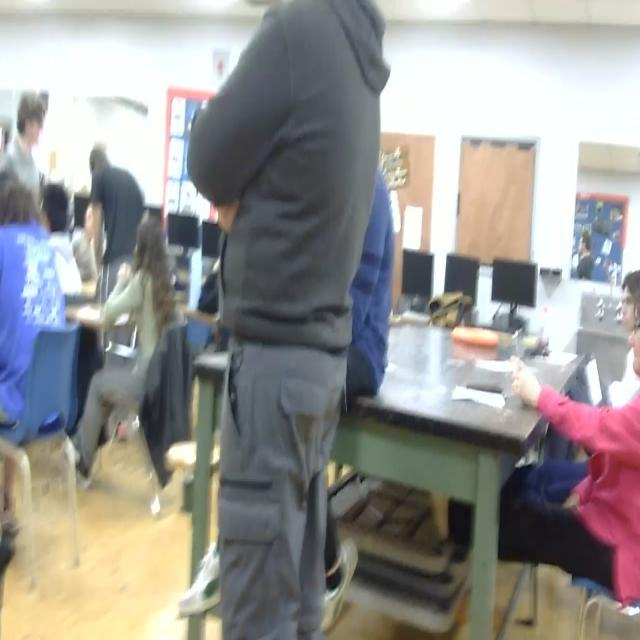note: (452, 323, 499, 348)
